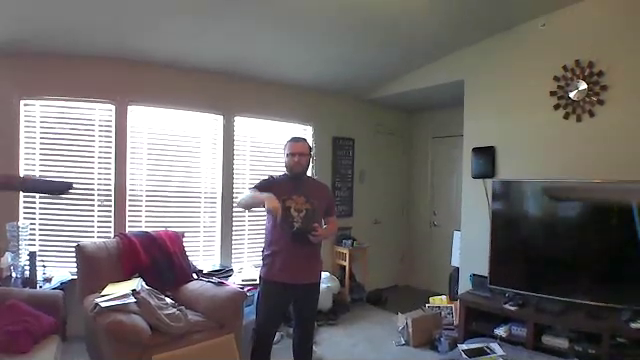down: (266, 191, 284, 225)
